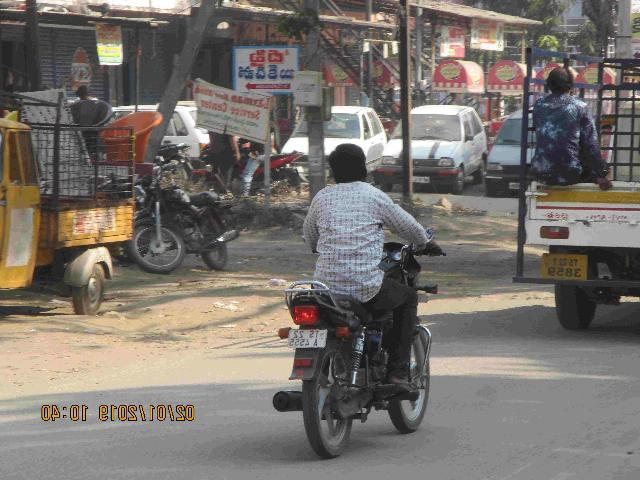motor: (274, 247, 445, 459), (134, 188, 241, 275)
non-helm: (330, 145, 368, 183)
